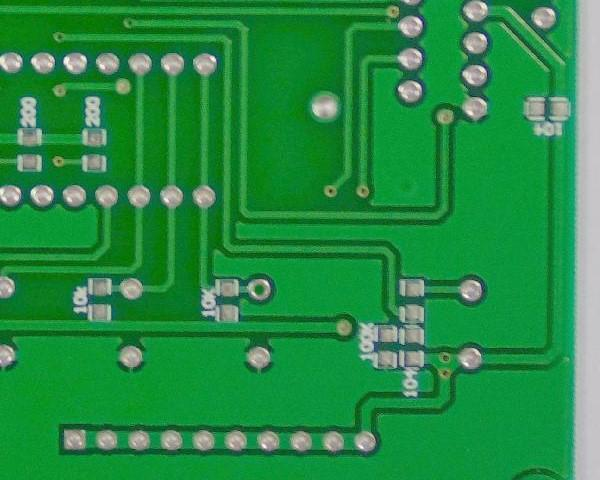missing hole: (243, 274, 276, 305)
